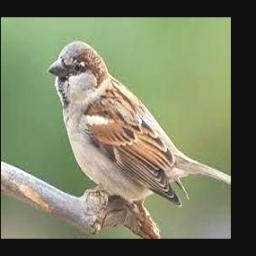Sparrow: (48, 41, 231, 208)
